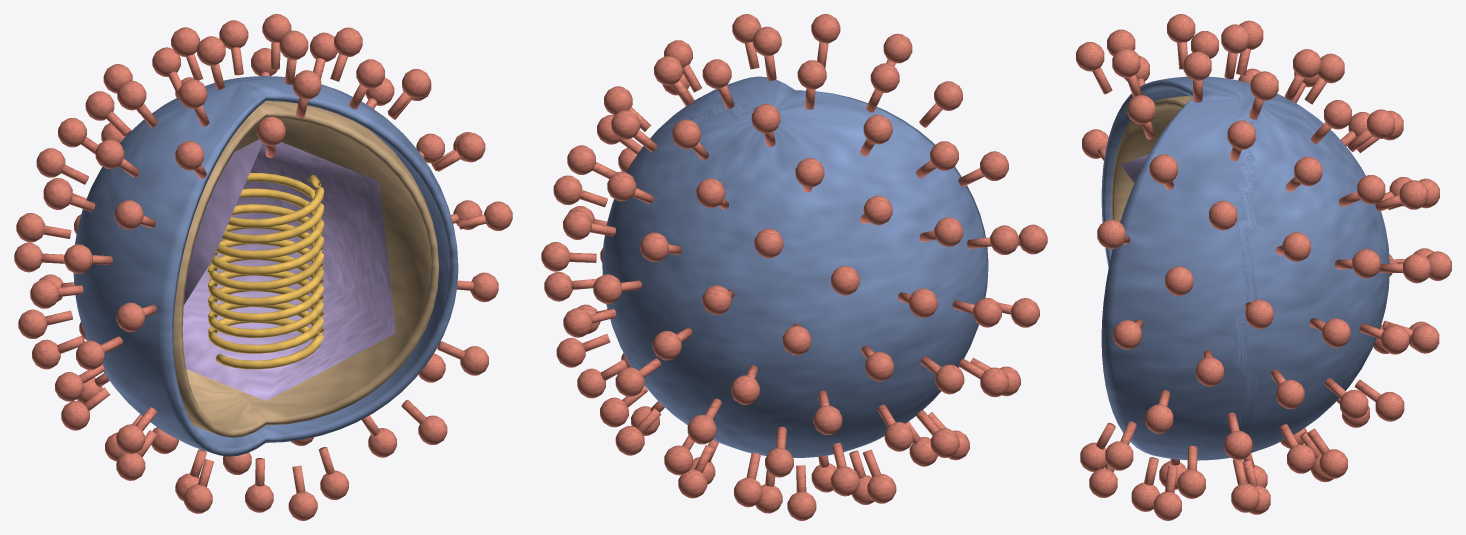
File: cutaway.glb
3 renders of one model, left to right at view 1: azimuth 30°, elevation 25°; view 2: azimuth 150°, elevation 25°; view 3: azimuth 270°, elevation 25°, orthographic.
Visible parts, largest first — view 1: espiculas_mesh, envelope_mesh, capsideo_mesh, tegumento_mesh, genoma_mesh; view 2: envelope_mesh, espiculas_mesh; view 3: envelope_mesh, espiculas_mesh, tegumento_mesh.
Part boxes in pixels (left/top/right/bottom): espiculas_mesh: left=14, top=14, right=512, bottom=520; envelope_mesh: left=73, top=76, right=458, bottom=456; capsideo_mesh: left=182, top=139, right=395, bottom=400; tegumento_mesh: left=173, top=101, right=439, bottom=437; genoma_mesh: left=207, top=172, right=323, bottom=369; envelope_mesh: left=602, top=76, right=988, bottom=457; espiculas_mesh: left=541, top=14, right=1047, bottom=520; envelope_mesh: left=1101, top=76, right=1389, bottom=460; espiculas_mesh: left=1076, top=14, right=1451, bottom=520; tegumento_mesh: left=1111, top=96, right=1192, bottom=222.
Size of the model in its own units: 2.64 by 2.63 by 1.95.
Materials: 5 (5 with a texture image).
